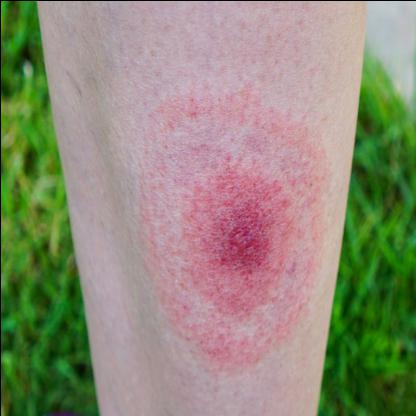Tick: (131, 78, 332, 376)
